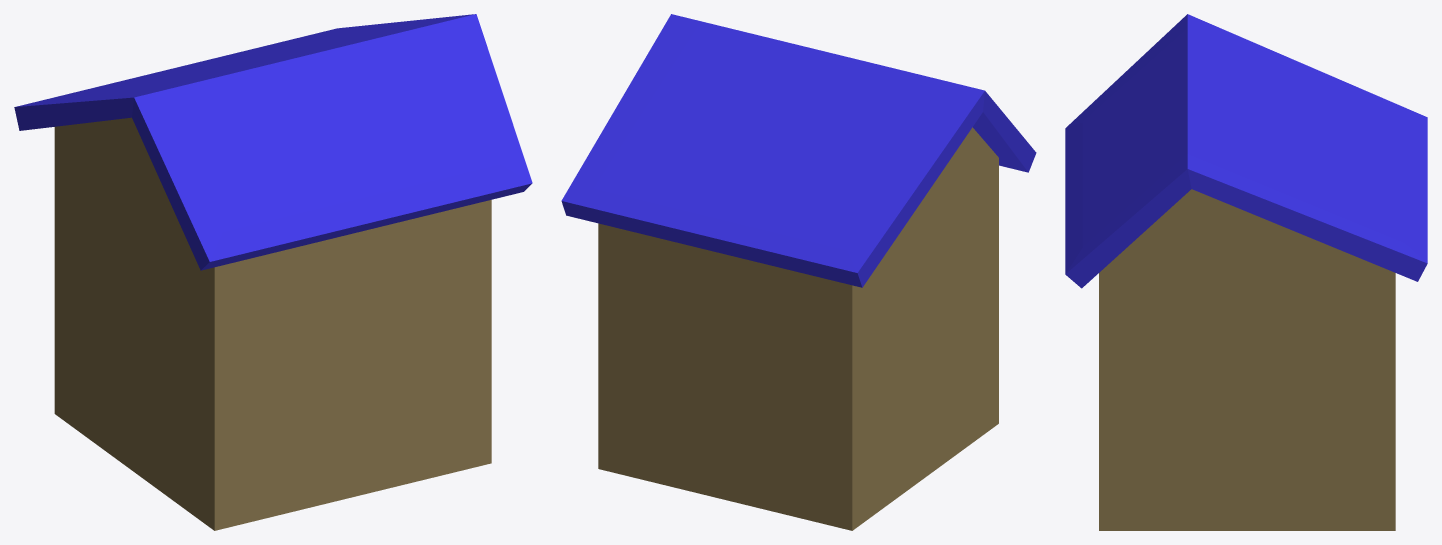
The model's file is house.glb.
3 views of the same model, side by side, from view 1: azimuth 30°, elevation 25°; view 2: azimuth 150°, elevation 25°; view 3: azimuth 270°, elevation 25° (orthographic). The views are drawn at different scales.
Parts seen in each view (by area): view 1: Cube, Cube.001; view 2: Cube, Cube.001; view 3: Cube, Cube.001.
Boxes of the visible parts, x1,y1,x2,y2 form: Cube: [54, 117, 491, 530]; Cube.001: [14, 14, 532, 270]; Cube: [598, 127, 998, 530]; Cube.001: [561, 14, 1036, 287]; Cube: [1099, 189, 1395, 530]; Cube.001: [1065, 14, 1427, 288].
Bounding box in the file's own units: 2.47 × 2.8 × 2.44.
